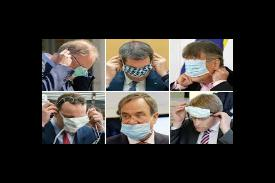mask_weared_incorrect: (121, 107, 151, 138), (184, 58, 212, 84), (62, 107, 87, 135), (126, 61, 152, 83), (189, 110, 212, 132), (73, 56, 93, 79)
